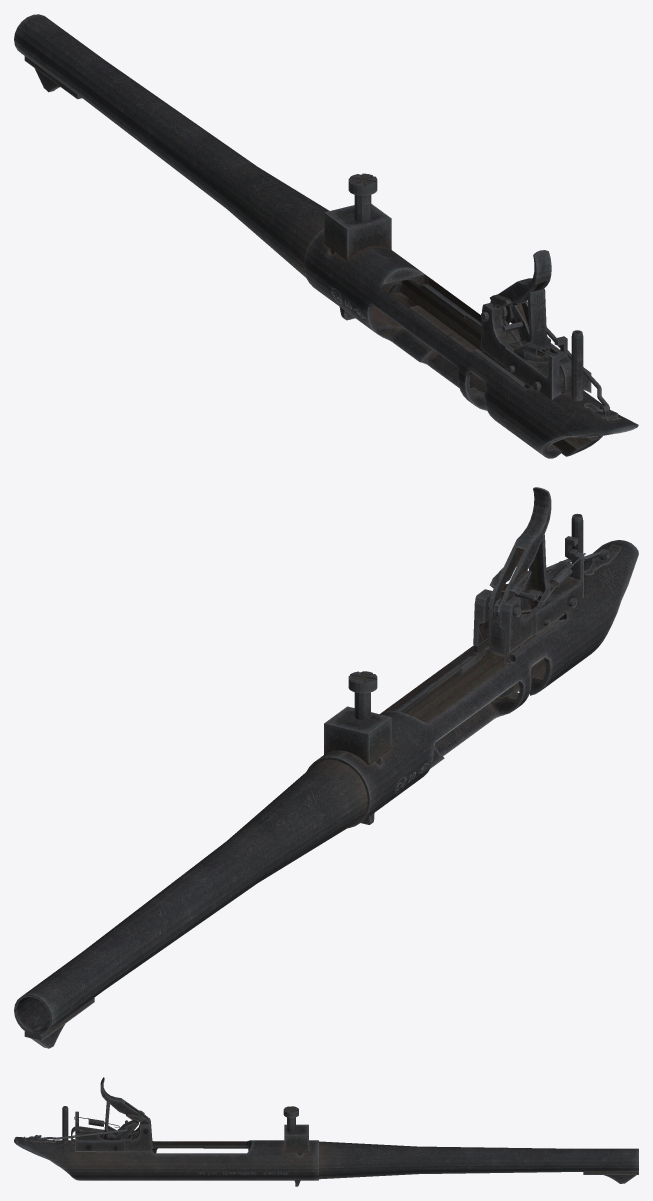
3 views of the same model, one above another, from view 1: azimuth 30°, elevation 25°; view 2: azimuth 150°, elevation 25°; view 3: azimuth 270°, elevation 25° (orthographic). The views are drawn at different scales.
Parts seen in each view (by area): view 1: TW_5a38e6bac4a2826c6e06d79b_PZ_Import; view 2: TW_5a38e6bac4a2826c6e06d79b_PZ_Import; view 3: TW_5a38e6bac4a2826c6e06d79b_PZ_Import.
Part boxes in pixels (x1=…): TW_5a38e6bac4a2826c6e06d79b_PZ_Import: x1=14, y1=14, x2=638, y2=458; TW_5a38e6bac4a2826c6e06d79b_PZ_Import: x1=14, y1=487, x2=638, y2=1048; TW_5a38e6bac4a2826c6e06d79b_PZ_Import: x1=14, y1=1077, x2=638, y2=1186.
Size of the model in its own units: 0.019 by 0.2936 by 0.0546.
Materials: 1 (1 with a texture image).
